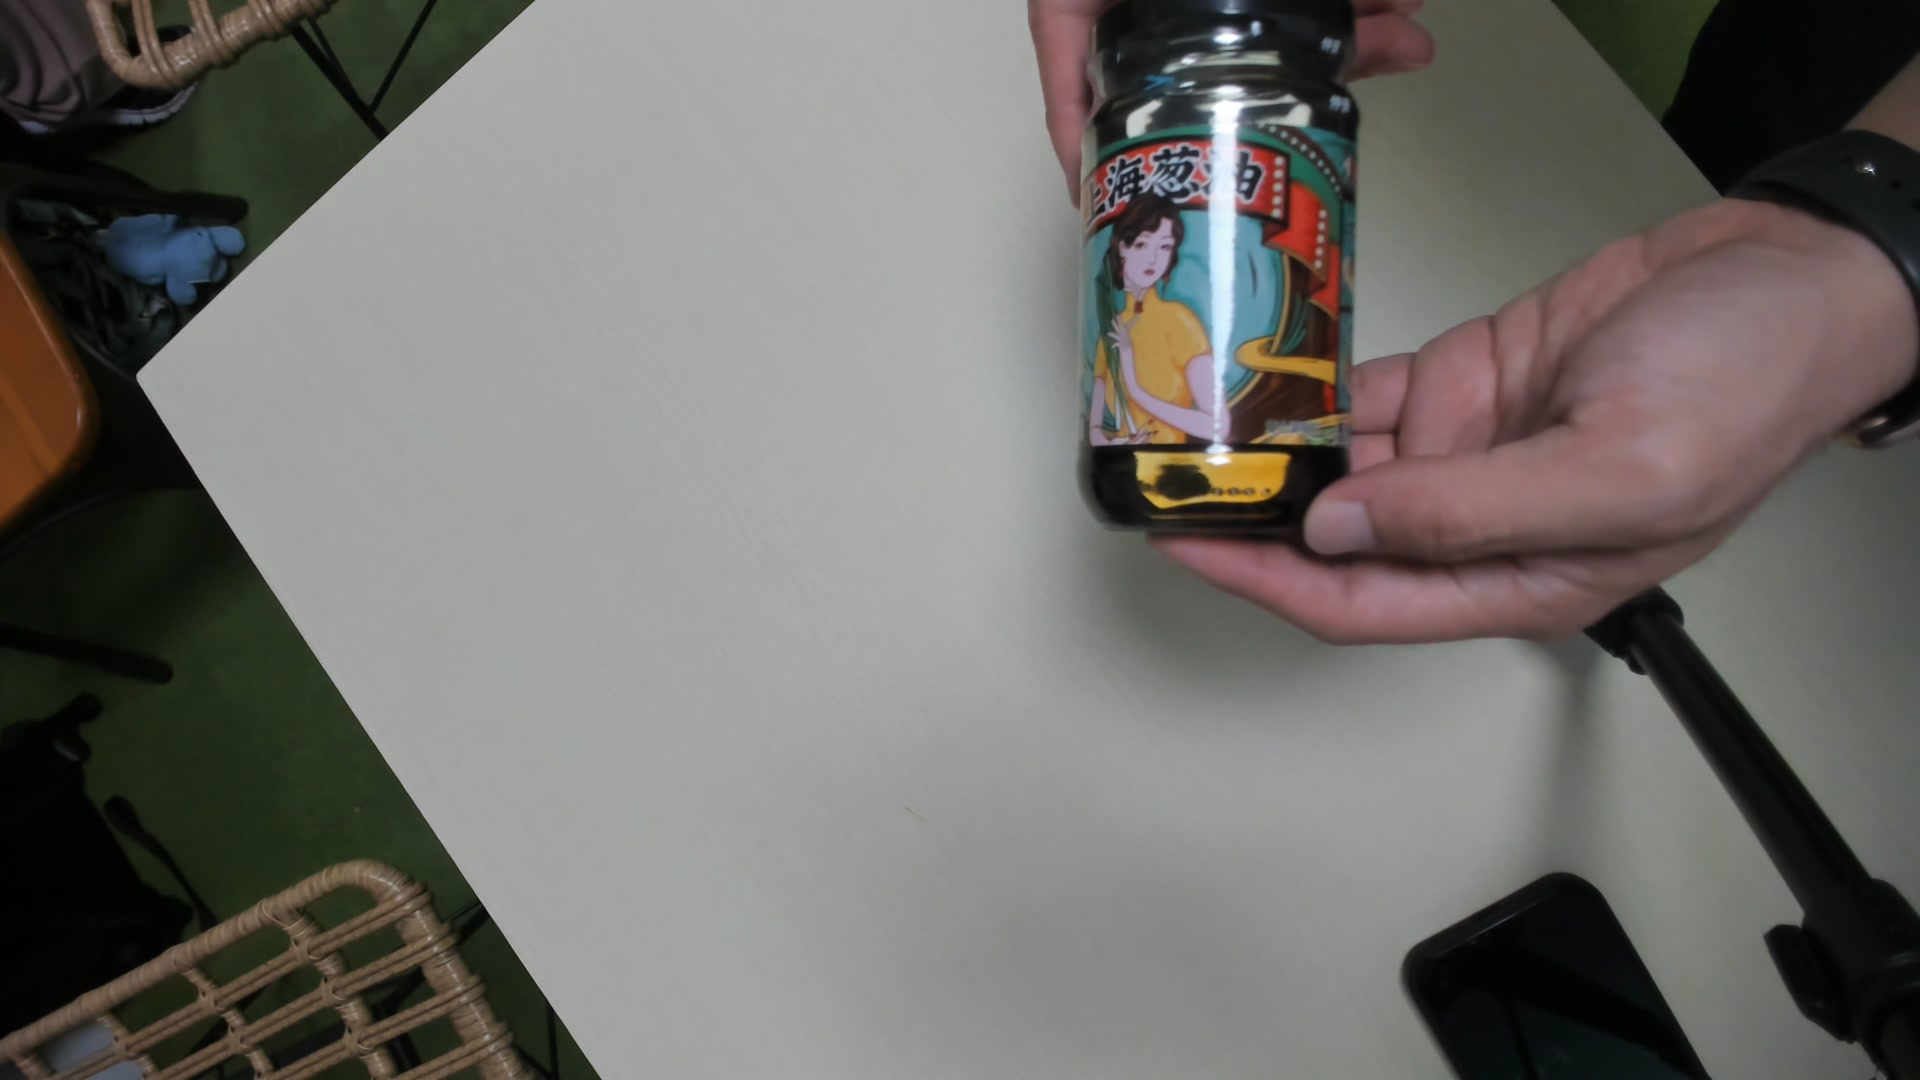OtherSauceDressing_200-299g_NonHalal_NonHealthy: (1079, 7, 1358, 531)
